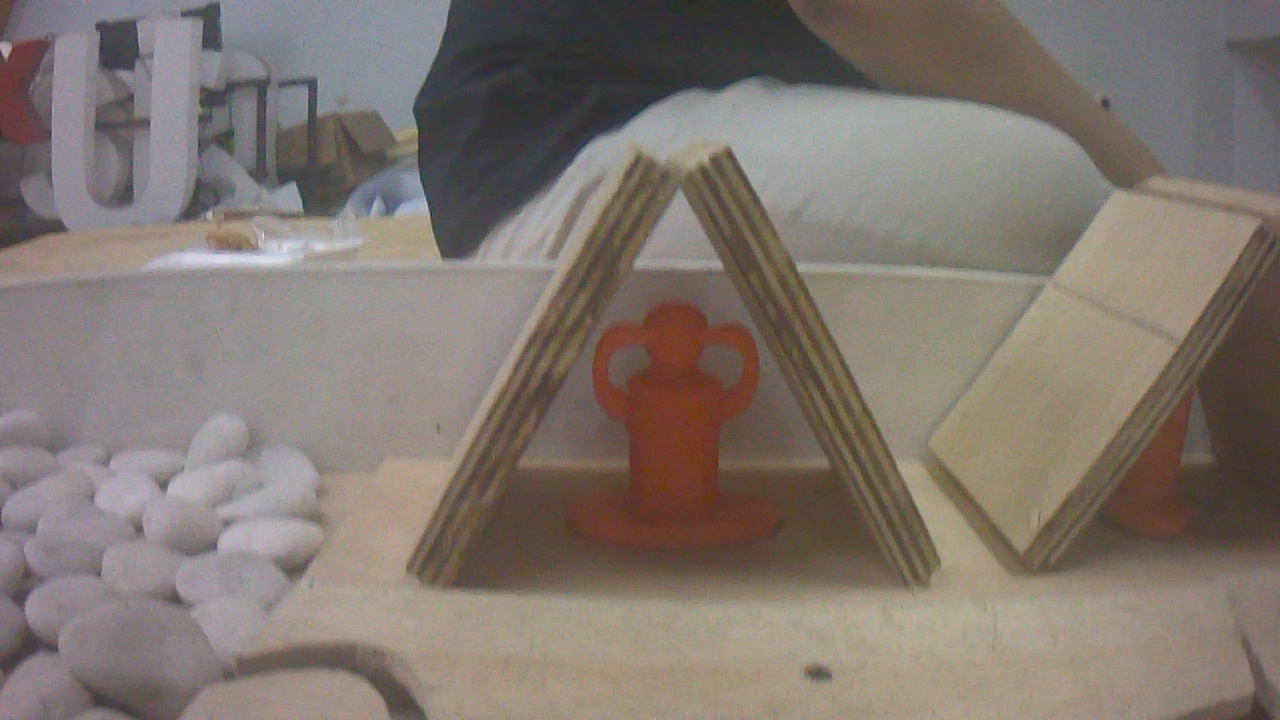real: (570, 281, 777, 556)
